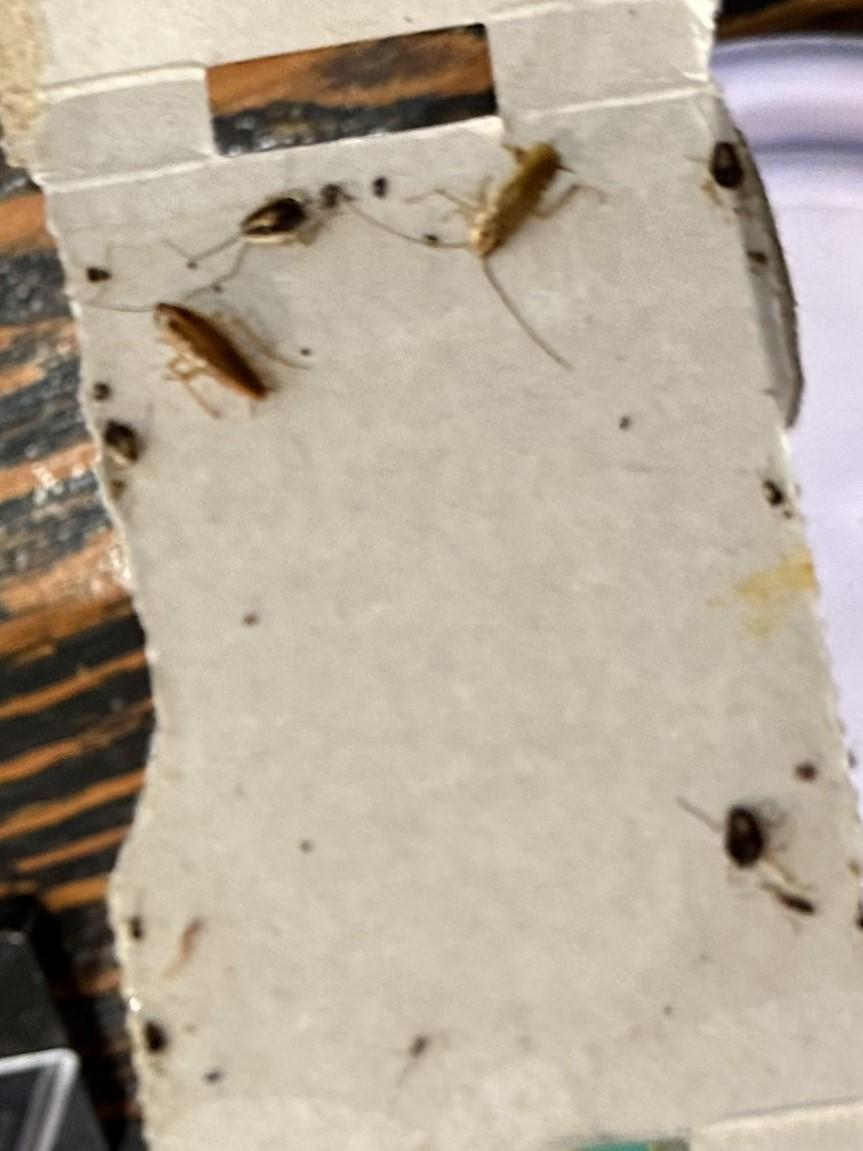cockroach: (368, 118, 620, 404), (62, 268, 346, 440), (615, 708, 818, 904), (140, 161, 370, 292)
